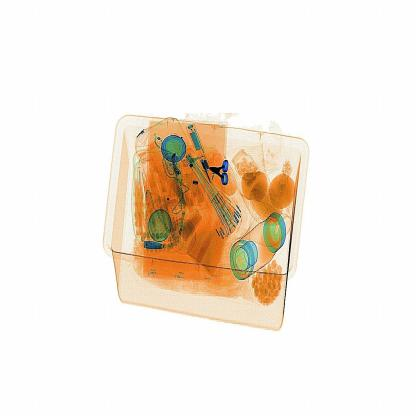gun: (206, 148, 233, 186)
